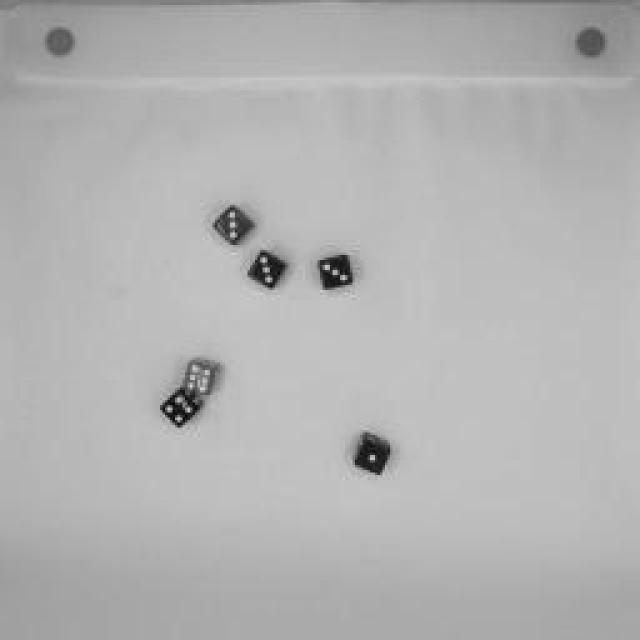dice_1: (344, 425, 401, 480)
dice_3: (209, 198, 261, 252), (312, 248, 358, 298), (240, 248, 290, 294)
dice_4: (158, 384, 202, 434)
dice_6: (175, 352, 225, 400)
